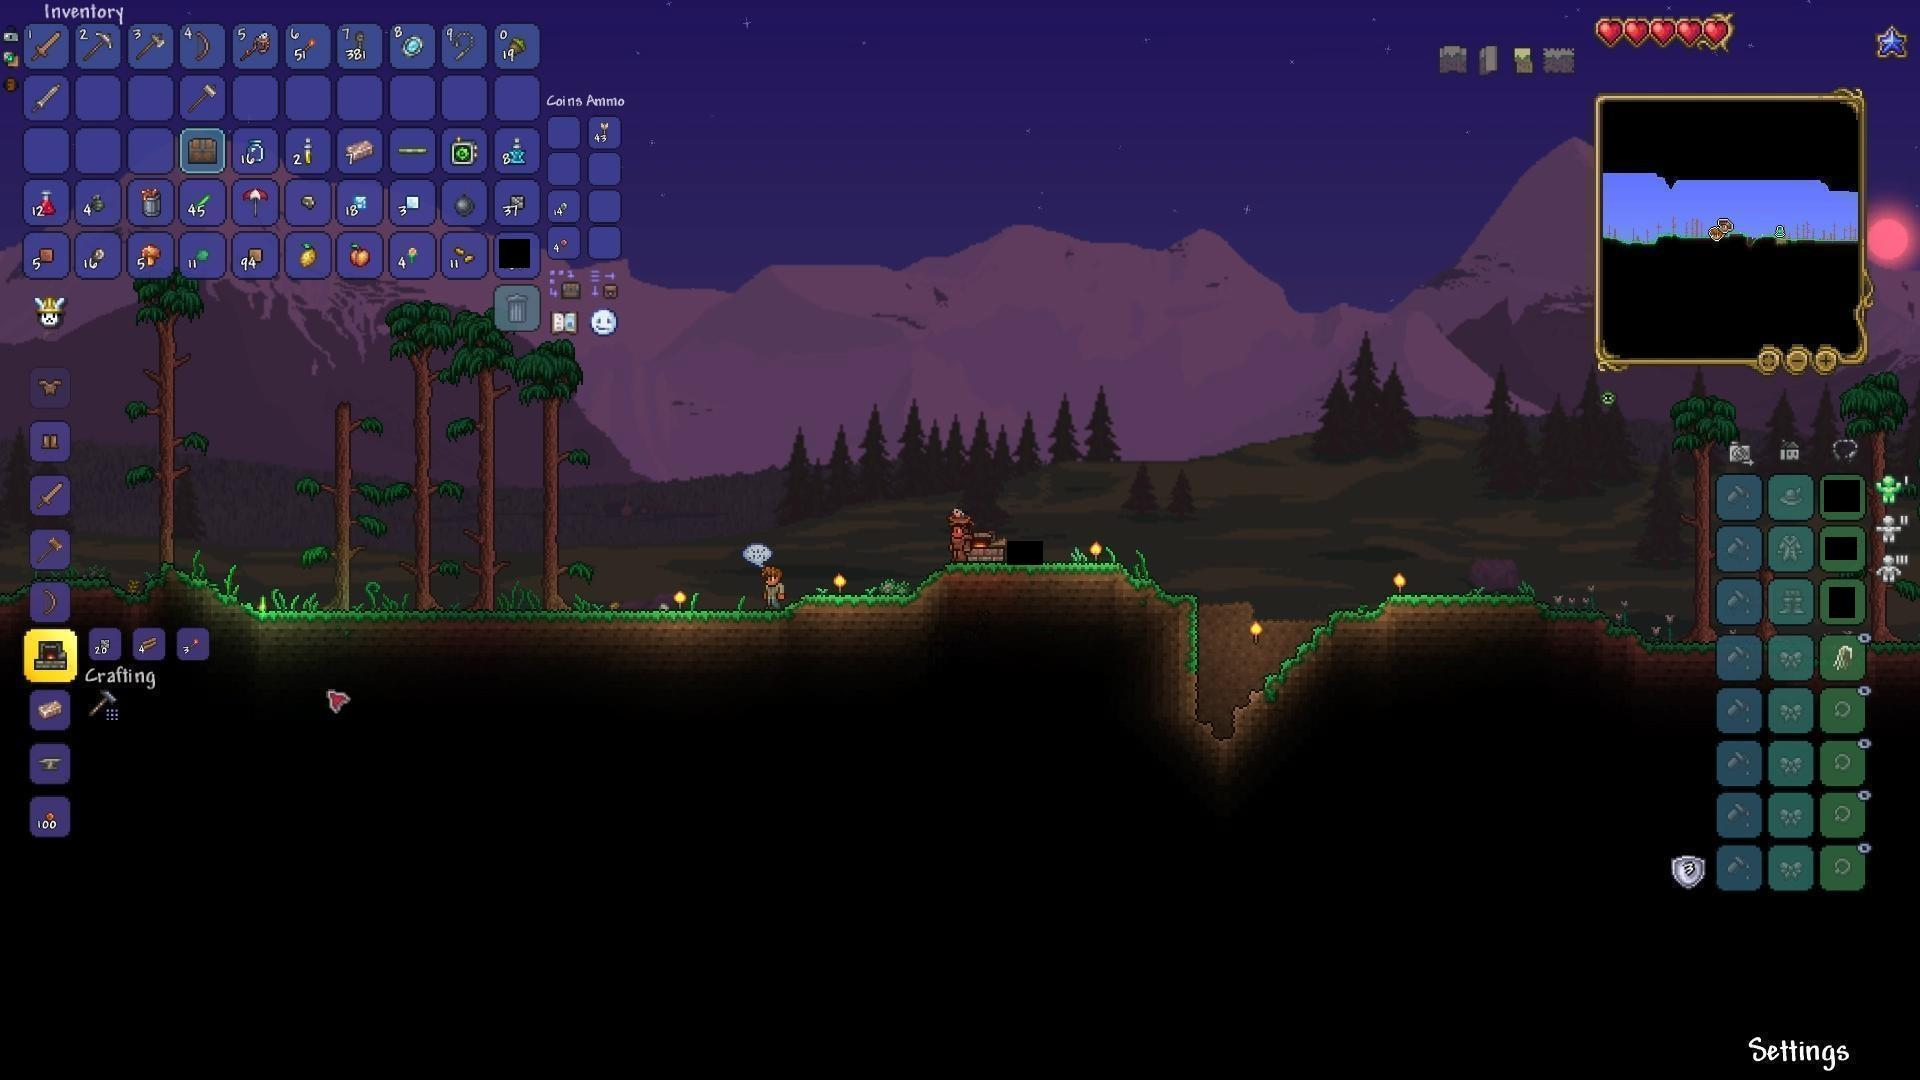breastplate: (33, 371, 69, 405)
legs: (34, 430, 65, 455)
wood: (133, 629, 164, 657)
